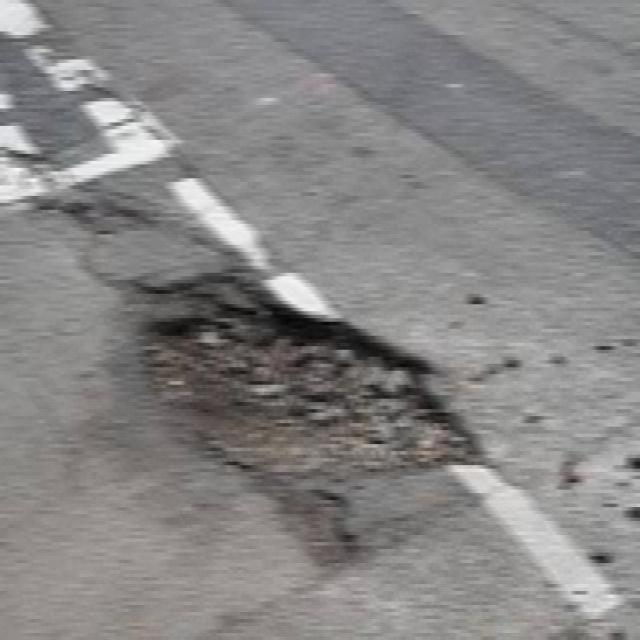Pothole: (74, 267, 506, 574)
